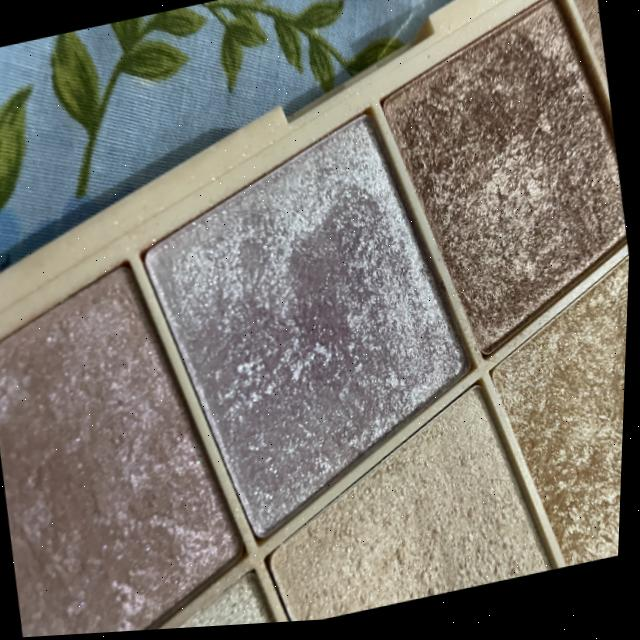highlighter: (118, 80, 518, 592), (0, 219, 286, 640), (352, 0, 640, 390), (238, 361, 578, 628), (458, 249, 632, 589), (114, 551, 315, 634)
